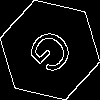G: (25, 25, 83, 85)
